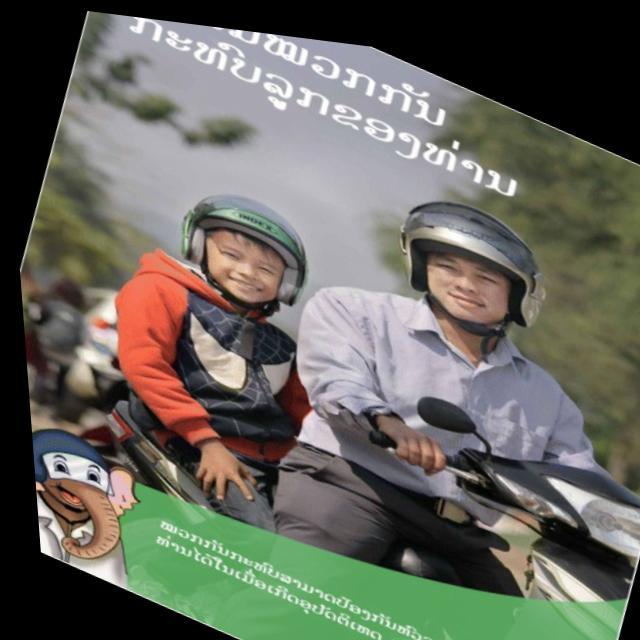Helmet: (390, 185, 550, 352), (172, 182, 309, 325)
